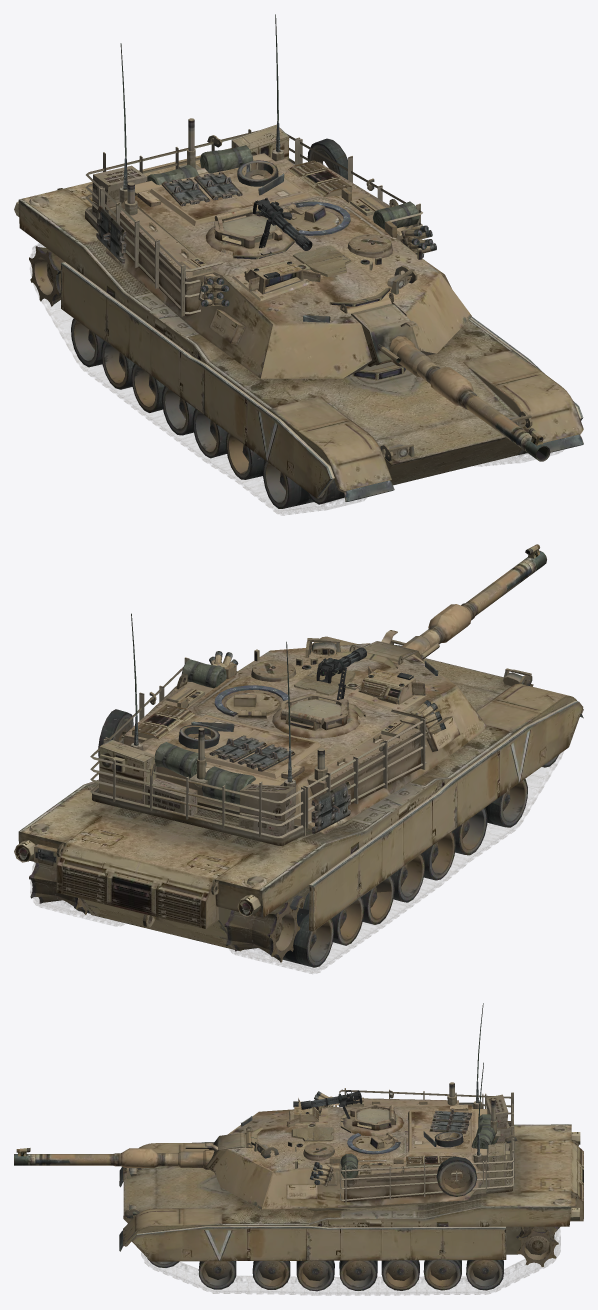
The model's file is abrams-mbt.glb.
3 views of the same model, one above another, from view 1: azimuth 30°, elevation 25°; view 2: azimuth 150°, elevation 25°; view 3: azimuth 270°, elevation 25° (orthographic). The views are drawn at different scales.
Parts seen in each view (by area): view 1: Main_Body_Material #25_0, Track_Material #26_0, Minigun_Material #27_0; view 2: Main_Body_Material #25_0, Track_Material #26_0, Minigun_Material #27_0; view 3: Main_Body_Material #25_0, Track_Material #26_0, Minigun_Material #27_0.
Boxes of the visible parts, box(x1,y1,x2,y2) form: Main_Body_Material #25_0: box(14, 14, 583, 508); Track_Material #26_0: box(30, 243, 563, 515); Minigun_Material #27_0: box(253, 198, 312, 250); Main_Body_Material #25_0: box(14, 544, 583, 967); Track_Material #26_0: box(30, 752, 563, 973); Minigun_Material #27_0: box(316, 647, 366, 683); Main_Body_Material #25_0: box(14, 1003, 583, 1291); Track_Material #26_0: box(141, 1226, 560, 1295); Minigun_Material #27_0: box(300, 1090, 362, 1109).
Size of the model in its own units: 3.07 by 3.74 by 8.62.
Materials: 4 (4 with a texture image).
